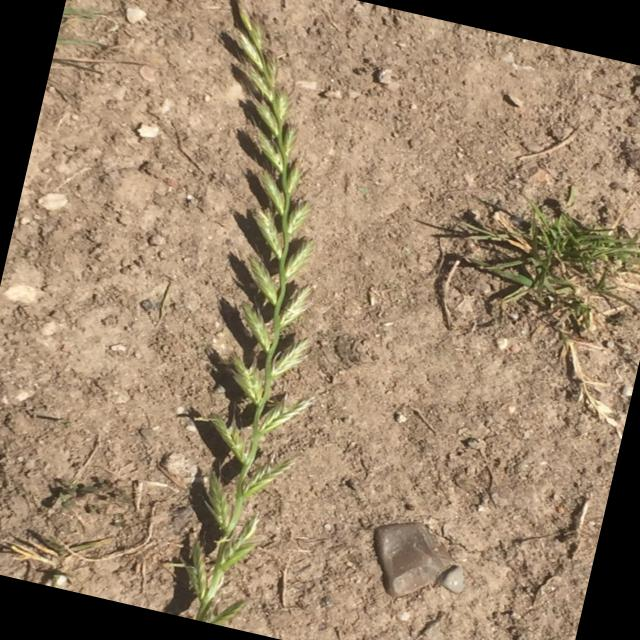Lolium: (83, 0, 403, 633)
